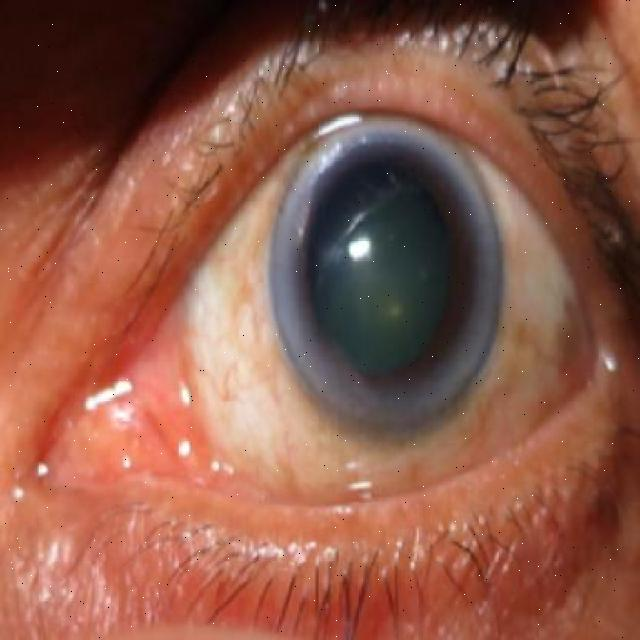Cataract: (266, 115, 506, 442)
